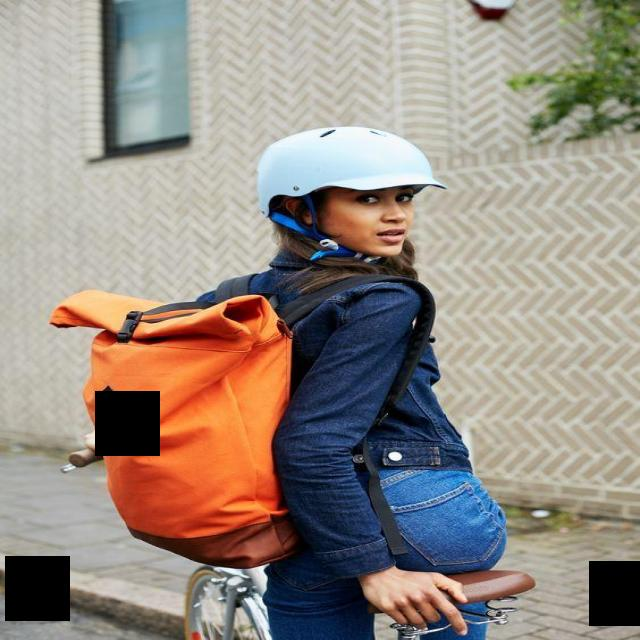Helmet: (252, 124, 448, 260)
